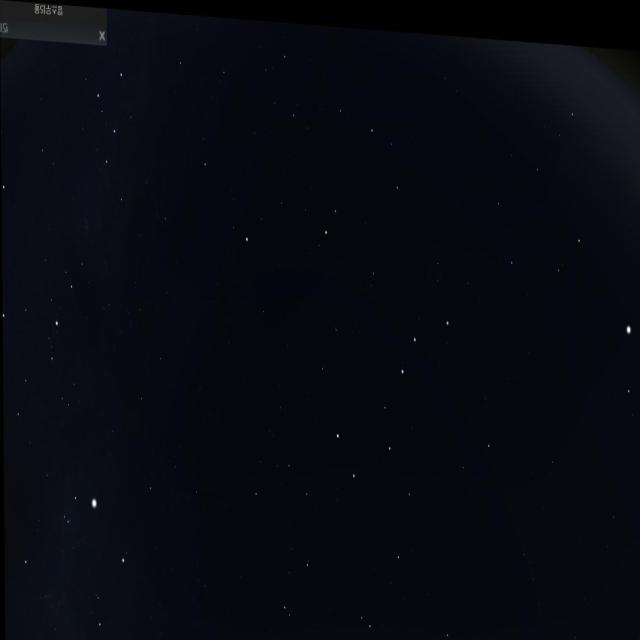cassiopeia: (82, 26, 157, 234)
ursa_major: (332, 290, 456, 487)
